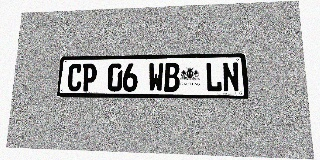0: (107, 63, 123, 92)
6: (122, 63, 138, 92)
B: (164, 63, 180, 92)
C: (67, 64, 83, 91)
L: (205, 62, 222, 92)
N: (222, 62, 240, 92)
P: (81, 64, 97, 91)
W: (148, 63, 164, 92)
